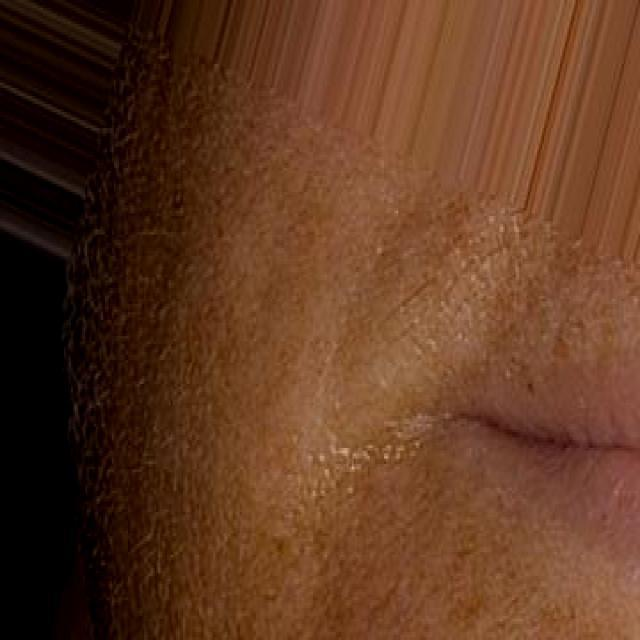Rosacea: (285, 429, 529, 634)
